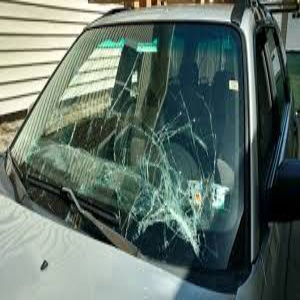front_windshield_glass: (40, 34, 221, 230)
